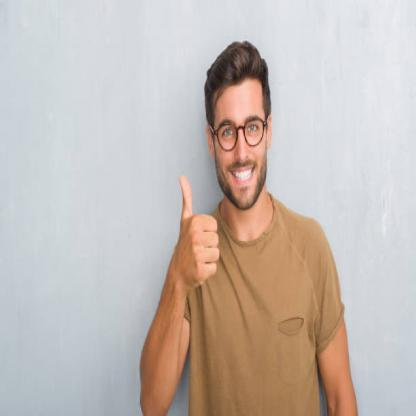thumb_up: (176, 172, 222, 290)
